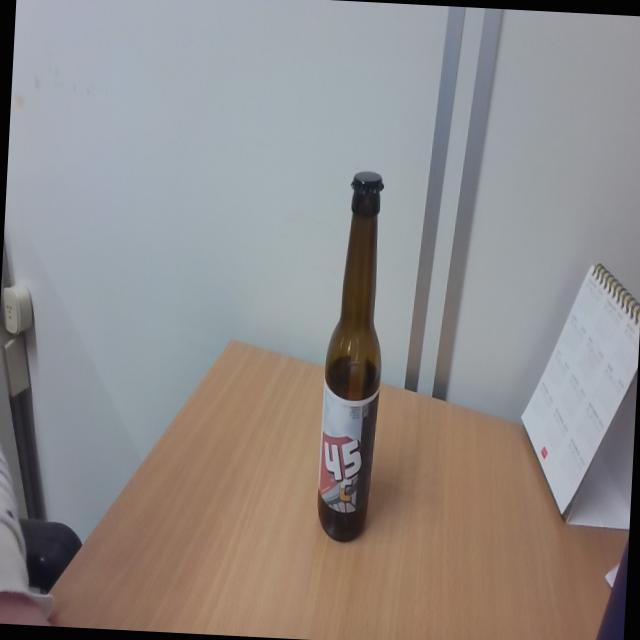Bottle: (315, 170, 393, 544)
Cap: (348, 170, 387, 198)
Label: (318, 393, 377, 518)
